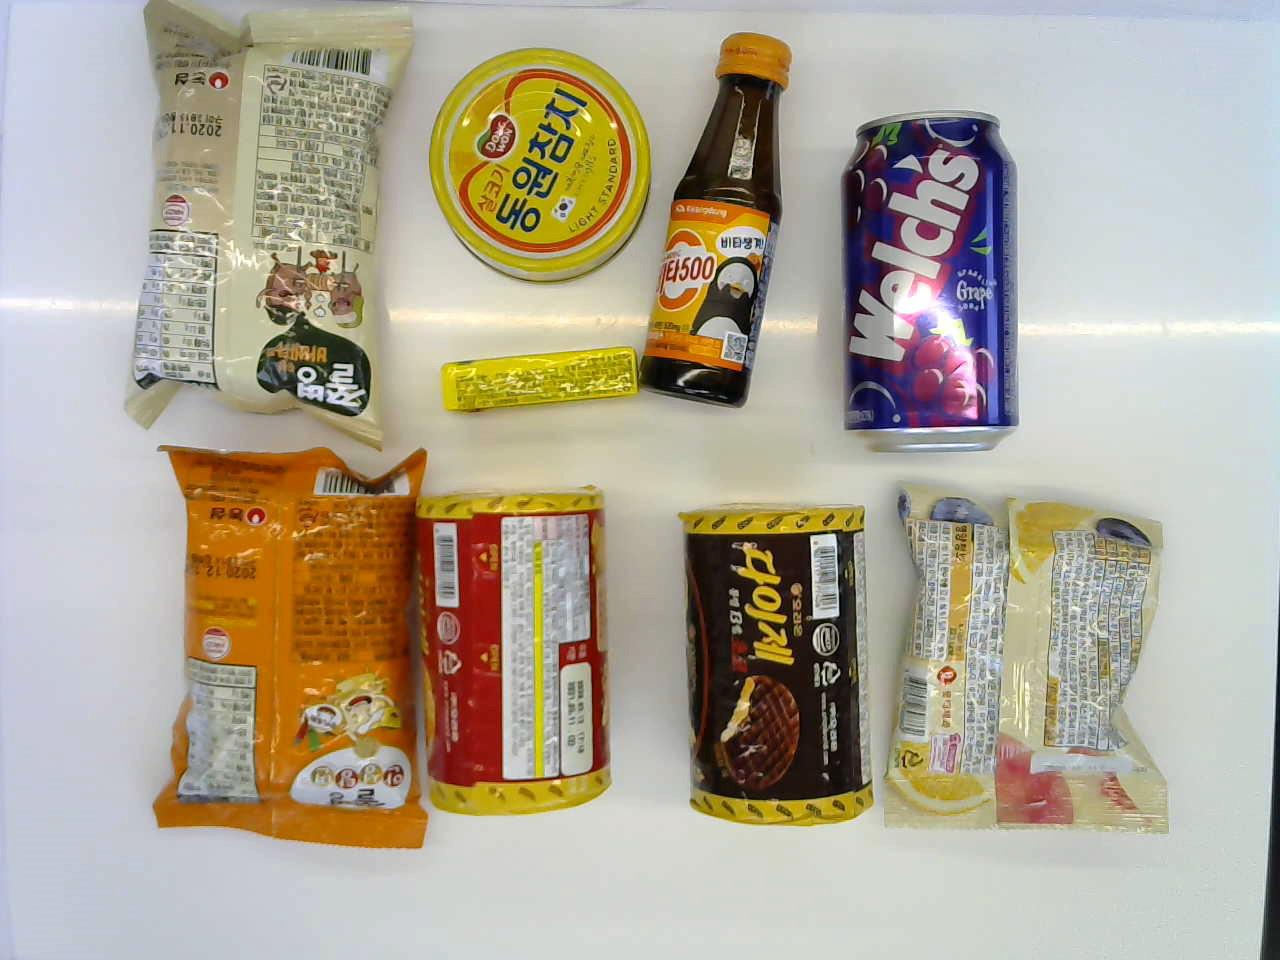diget_choco: (666, 489, 875, 838)
diget_ori: (407, 480, 616, 828)
gumi_gumi: (876, 470, 1184, 838)
jjolbyung_noodle: (151, 428, 441, 876)
jjolbyung_ori: (127, 1, 417, 449)
juicyfresh: (432, 338, 643, 416)
tuna: (436, 44, 656, 284)
vita500: (640, 29, 801, 426)
welchs: (822, 101, 1031, 449)
